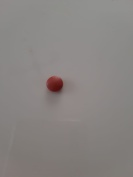Dolorex: (45, 75, 64, 93)
